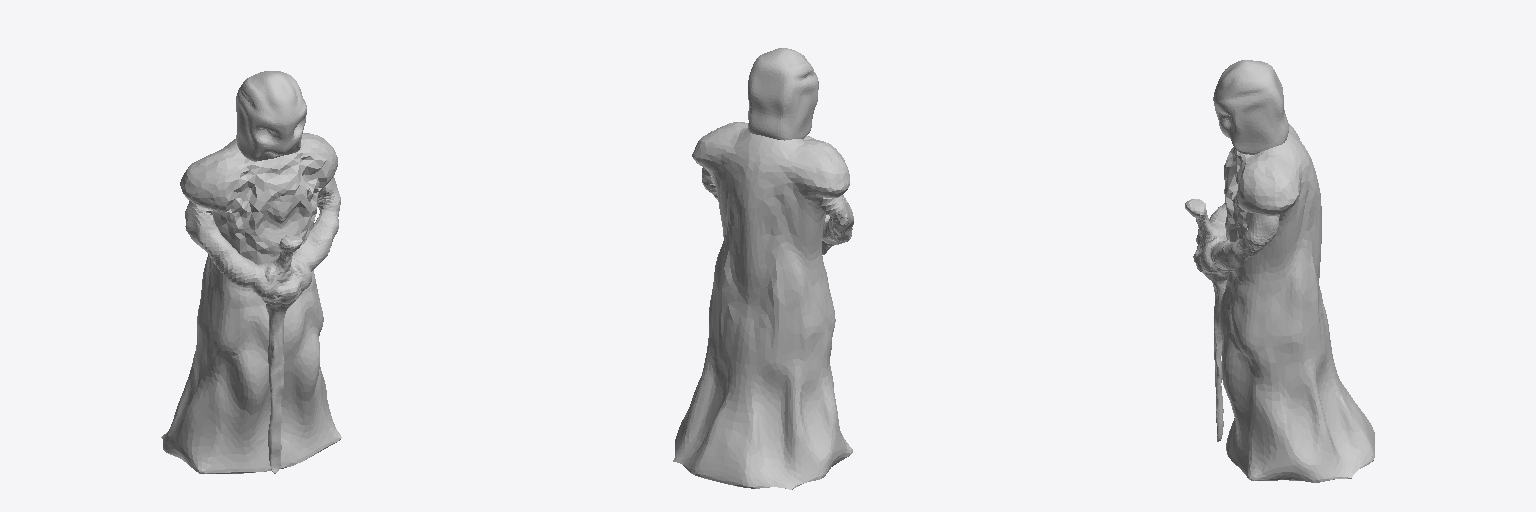
File: lowpoly statue2.OBJ
The picture shows the model from 3 angles: view 1: azimuth 30°, elevation 25°; view 2: azimuth 150°, elevation 25°; view 3: azimuth 270°, elevation 25°; orthographic projection.
Parts seen in each view (by area): view 1: Group18041, Group60136, Group29638, Group30302, Group30429, Group30337, Group30374, Group28431, Group61411; view 2: Group18041, Group60136; view 3: Group18041, Group60136, Group29638.
Boxes of the visible parts, box(x1,y1,x2,y2) form: Group18041: box(161, 133, 341, 473); Group60136: box(236, 71, 306, 161); Group29638: box(250, 253, 311, 302); Group30302: box(228, 241, 322, 286); Group30429: box(188, 203, 339, 252); Group30337: box(217, 230, 331, 276); Group30374: box(213, 217, 338, 266); Group28431: box(266, 304, 290, 338); Group61411: box(276, 235, 302, 268); Group18041: box(673, 122, 852, 489); Group60136: box(748, 48, 818, 140); Group18041: box(1219, 123, 1374, 482); Group60136: box(1213, 60, 1288, 154); Group29638: box(1196, 219, 1232, 276).
Size of the model in its own units: 1.24 by 3.07 by 1.37.